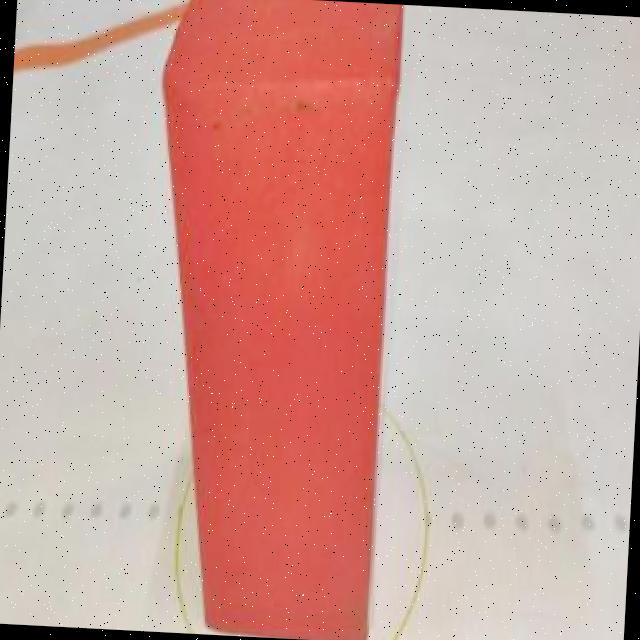redbox: (130, 0, 404, 640)
